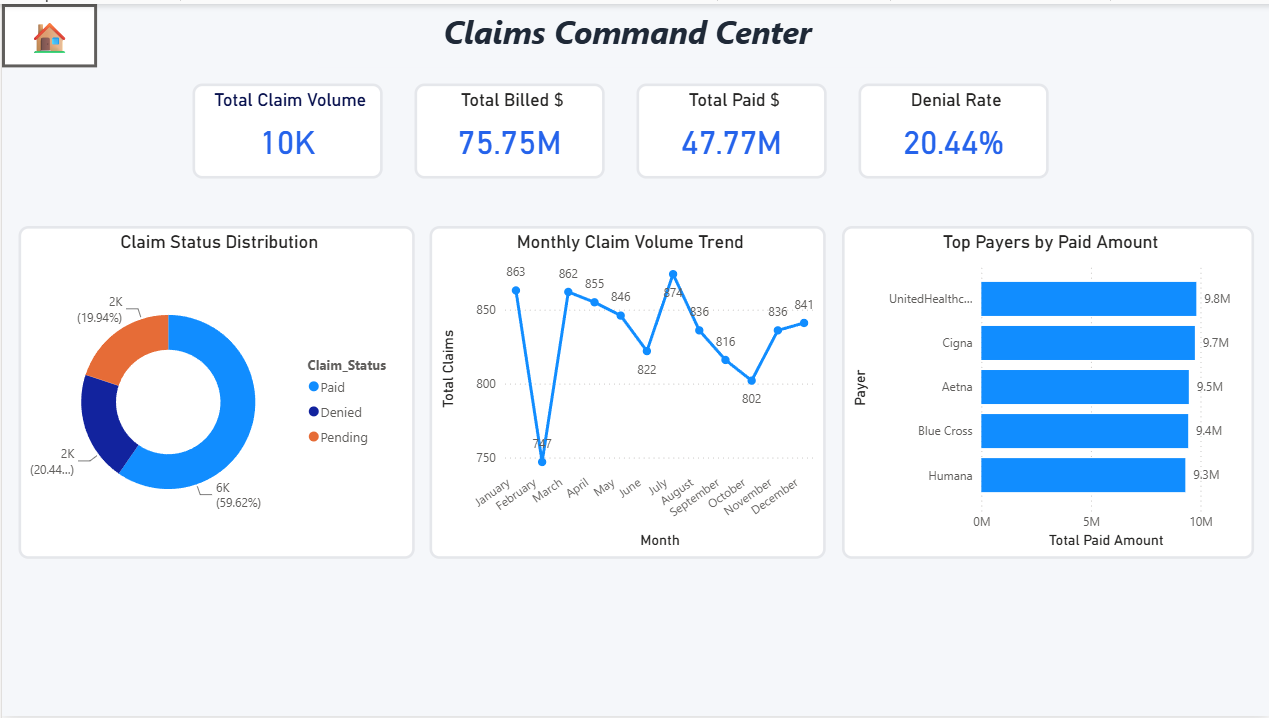

The dashboard page shown, as its layout file describes it:
{"tool":"powerbi","page":{"name":"Claims Command Center","canvas":[1280,720],"ordinal":1},"visuals":[{"type":"card","title":"Total Claim Volume","fields":{"Values":["Claims_Fact.Total Claims"]},"box":[192,80,192,96],"z":0},{"type":"card","title":"Total Billed $","fields":{"Values":["Claims_Fact.Total Billed Amount"]},"box":[416,80,192,96],"z":1000},{"type":"card","title":"Total Paid $","fields":{"Values":["Claims_Fact.Total Paid Amount"]},"box":[640,80,192,96],"z":2000},{"type":"card","title":"Denial Rate ","fields":{"Values":["Claims_Fact.Denial Rate %"]},"box":[864,80,192,96],"z":3000},{"type":"donutChart","title":"Claim Status Distribution","fields":{"Category":["Claims_Fact.Claim_Status"],"Y":["Claims_Fact.Total Claims"]},"box":[16,224,400,336],"z":4000},{"type":"lineChart","title":"Monthly Claim Volume Trend","fields":{"Category":["Claims_Fact.Service_Date.Variation.Date Hierarchy.Month"],"Y":["Claims_Fact.Total Claims"]},"box":[432,224,400,336],"z":5000},{"type":"clusteredBarChart","title":"Top Payers by Paid Amount","fields":{"Category":["Claims_Fact.Payer"],"Y":["Claims_Fact.Total Paid Amount"]},"box":[848,224,416,336],"z":6000},{"type":"textbox","box":[320,0,624,64],"z":7000},{"type":"actionButton","box":[0,0,96,64],"z":8000}]}

Visuals, with their boxes in screenshot pixels (x1, y1, x2, y2), scaled from the page's 1280x720 canvas onto the 1269x718 screenshot:
"Total Claim Volume" card: (190, 80, 381, 176)
"Total Billed $" card: (412, 80, 603, 176)
"Total Paid $" card: (634, 80, 825, 176)
"Denial Rate " card: (857, 80, 1047, 176)
"Claim Status Distribution" donutChart: (16, 223, 412, 558)
"Monthly Claim Volume Trend" lineChart: (428, 223, 825, 558)
"Top Payers by Paid Amount" clusteredBarChart: (841, 223, 1253, 558)
textbox: (317, 0, 936, 64)
actionButton: (0, 0, 95, 64)
